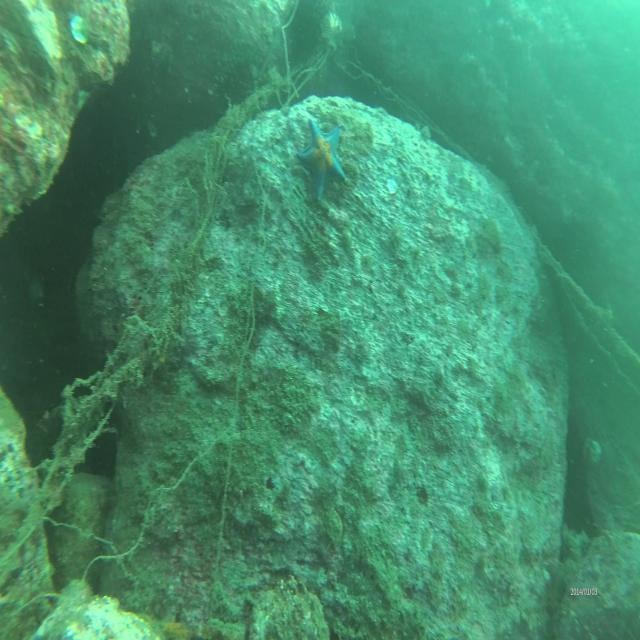starfish: (297, 116, 351, 208)
